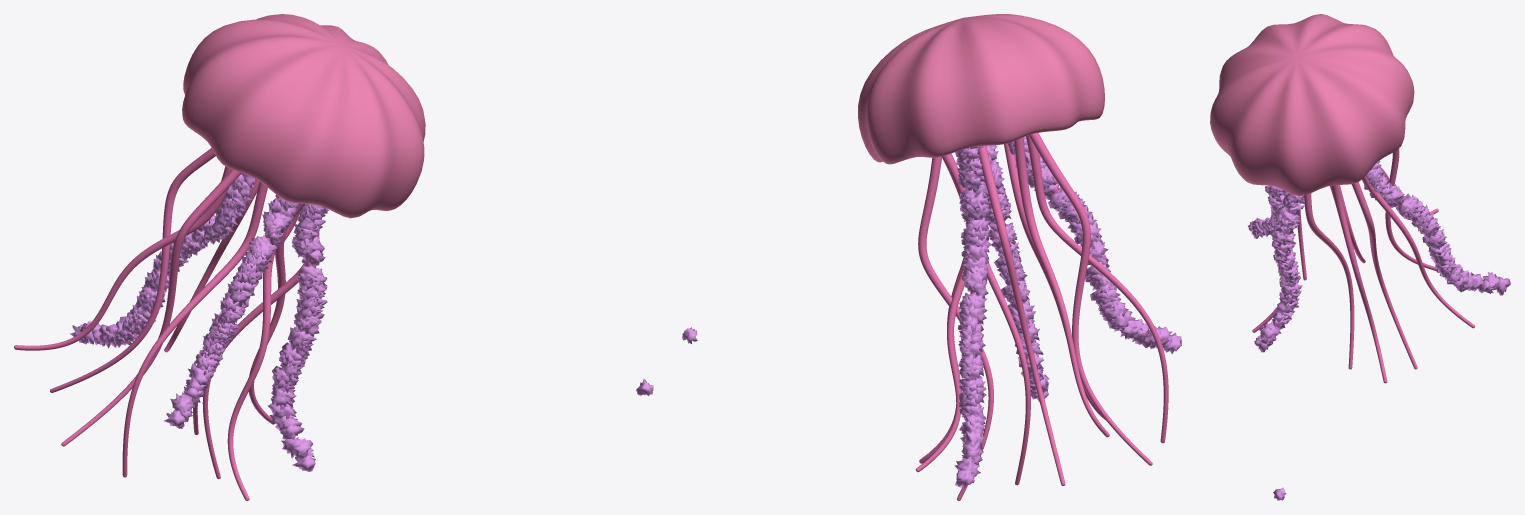
Rendered from Jellyfish.fbx.
3 renders of one model, left to right at view 1: azimuth 30°, elevation 25°; view 2: azimuth 150°, elevation 25°; view 3: azimuth 270°, elevation 25°, orthographic. The views are drawn at different scales.
Visible parts, largest first — view 1: Sphere, NurbsPath.013, NurbsPath.008, NurbsPath, NurbsPath.005, NurbsPath.007, NurbsPath.010, NurbsPath.001, NurbsPath.006; view 2: Sphere, NurbsPath, NurbsPath.008, NurbsPath.013, NurbsPath.005, NurbsPath.009, NurbsPath.006, NurbsPath.010, NurbsPath.007; view 3: Sphere, NurbsPath.001, NurbsPath.009, NurbsPath.010, NurbsPath.006, NurbsPath.008.
Part boxes in pixels (left/top/right/bottom): Sphere: left=182, top=14, right=425, bottom=218; NurbsPath.013: left=122, top=182, right=267, bottom=477; NurbsPath.008: left=50, top=148, right=215, bottom=392; NurbsPath: left=61, top=169, right=241, bottom=446; NurbsPath.005: left=14, top=166, right=231, bottom=350; NurbsPath.007: left=227, top=203, right=304, bottom=500; NurbsPath.010: left=202, top=231, right=319, bottom=479; NurbsPath.001: left=248, top=227, right=287, bottom=424; NurbsPath.006: left=164, top=178, right=259, bottom=352; Sphere: left=858, top=14, right=1104, bottom=164; NurbsPath: left=1029, top=133, right=1152, bottom=465; NurbsPath.008: left=978, top=145, right=1065, bottom=485; NurbsPath.013: left=1026, top=135, right=1168, bottom=443; NurbsPath.005: left=1014, top=137, right=1109, bottom=437; NurbsPath.009: left=918, top=156, right=993, bottom=500; NurbsPath.006: left=915, top=154, right=965, bottom=472; NurbsPath.010: left=986, top=262, right=1030, bottom=485; NurbsPath.007: left=1004, top=143, right=1105, bottom=420; Sphere: left=1210, top=14, right=1414, bottom=196; NurbsPath.001: left=1330, top=185, right=1387, bottom=383; NurbsPath.009: left=1351, top=182, right=1417, bottom=369; NurbsPath.010: left=1304, top=193, right=1354, bottom=369; NurbsPath.006: left=1362, top=175, right=1475, bottom=328; NurbsPath.008: left=1385, top=148, right=1437, bottom=271.
Bounding box in the file's own units: 201 × 160 × 122.
